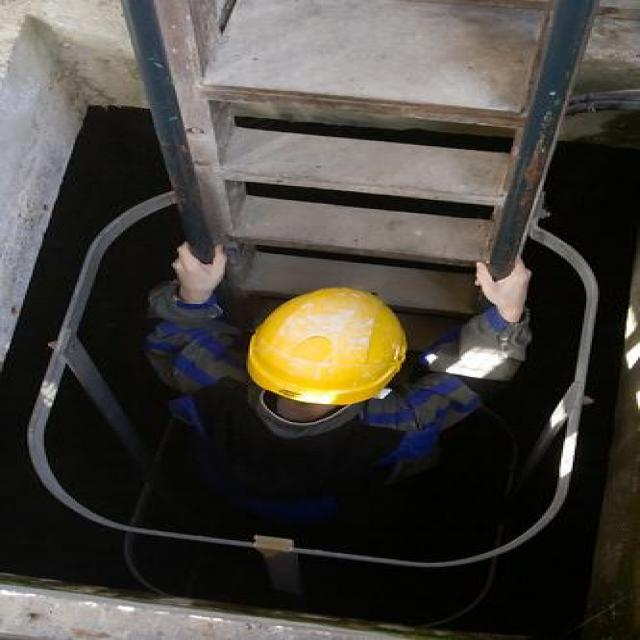Safety-Helmet: (238, 284, 415, 411)
